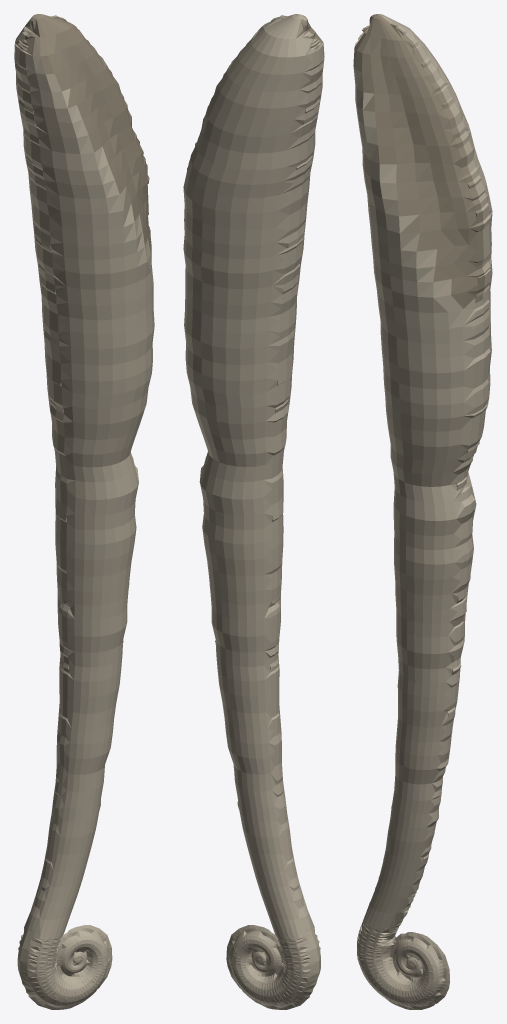
The model's file is lituites.glb.
3 views of the same model, side by side, from view 1: azimuth 30°, elevation 25°; view 2: azimuth 150°, elevation 25°; view 3: azimuth 330°, elevation 25° (orthographic).
Parts seen in each view (by area): view 1: preserved-coil-and-curved-shaft; view 2: preserved-coil-and-curved-shaft; view 3: preserved-coil-and-curved-shaft.
Part boxes in pixels (box(x1,y1,x2,y2)): preserved-coil-and-curved-shaft: box(14, 14, 154, 1009); preserved-coil-and-curved-shaft: box(183, 14, 324, 1009); preserved-coil-and-curved-shaft: box(353, 14, 492, 1009).
Size of the model in its own units: 0.0382 by 0.2842 by 0.032.
